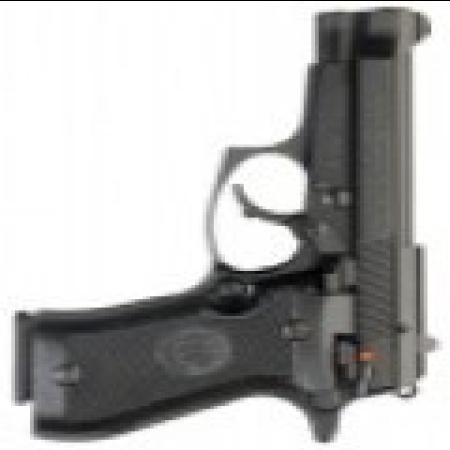Pistol: (11, 5, 439, 434)
